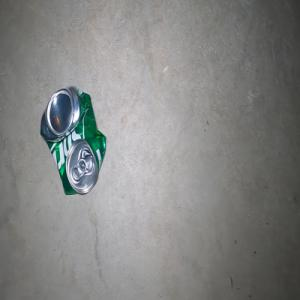SodaCan: (39, 85, 106, 195)
